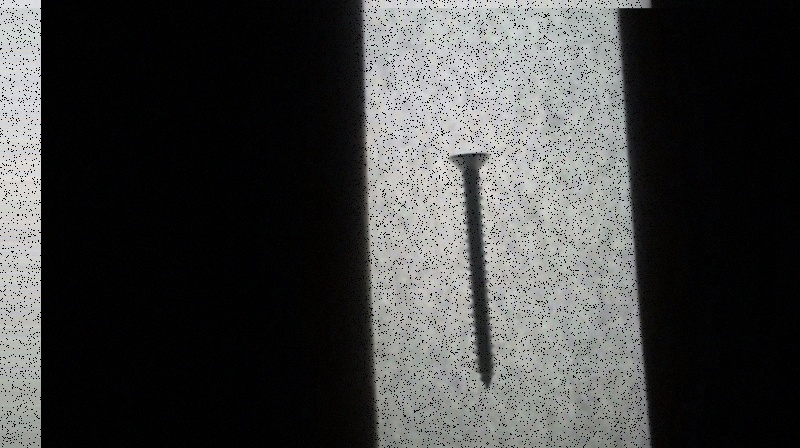S002: (444, 148, 498, 392)
